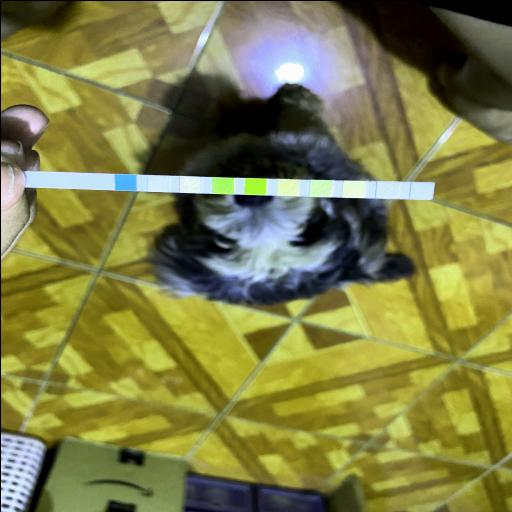Bilirubin: (146, 174, 168, 190)
Blood: (244, 178, 265, 194)
Glucose: (114, 174, 136, 189)
Ketone: (179, 176, 200, 192)
Leukocytes: (410, 182, 432, 198)
Nitrite: (376, 180, 397, 196)
Protein: (310, 179, 330, 195)
SpGravity: (212, 176, 232, 192)
Urobilinogen: (342, 180, 364, 196)
pH: (276, 178, 298, 194)
strip: (28, 170, 434, 199)
